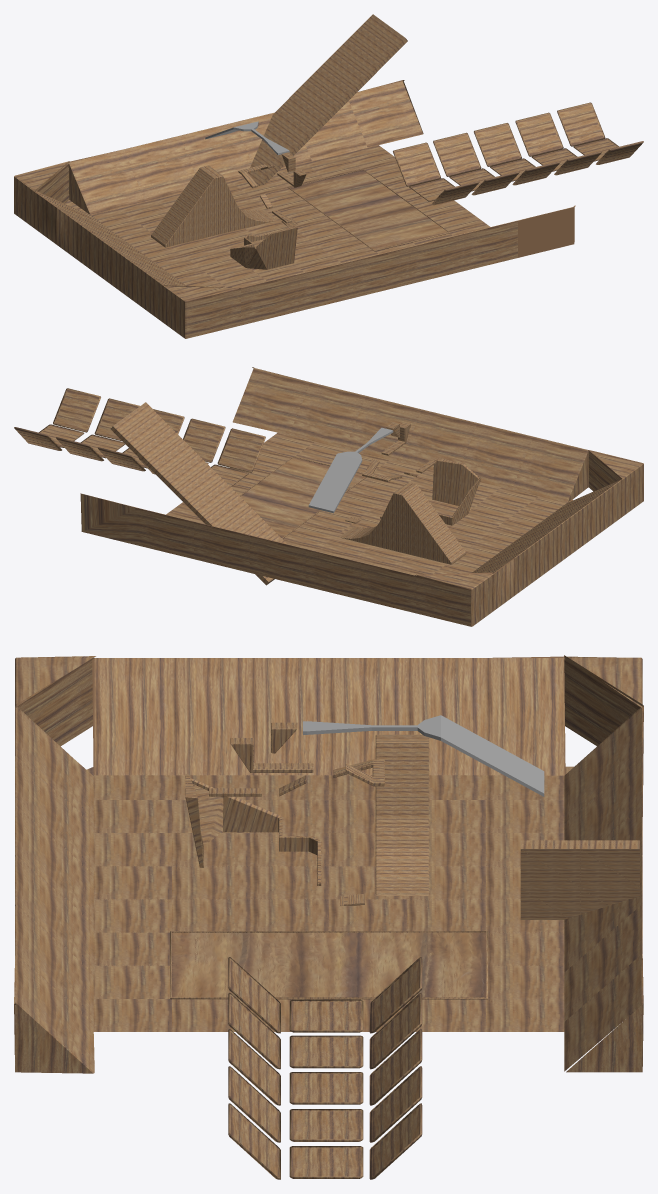
File: testRoomLedge.obj
3 views of the same model, one above another, from view 1: azimuth 30°, elevation 25°; view 2: azimuth 150°, elevation 25°; view 3: azimuth 270°, elevation 25° (orthographic). The views are drawn at different scales.
Visible parts, largest first — view 1: floor.001, floor, Cube.001, floor.003, ledge.001, housing1.001_Plane.008, ledge, housing1_Plane.001, housing1_Plane.009, housing1_Plane.005, housing1_Plane.007, housing1_Plane.003 (+3 smaller); view 2: floor.001, floor, Cube.001, ledge.001, floor.003, housing1.001_Plane.008, ledge, Cube_Cube.001, housing1.002_Plane.007_housing1.002_Plane.008, housing1.002_Plane.000, housing1.002_Plane.001_housing1.002_Plane.002, housing1.002_Plane.005_housing1.002_Plane.006 (+2 smaller); view 3: floor.001, floor, floor.003, housing1.001_Plane.008, Cube.001, ledge.001, ledge, Cube_Cube.001, housing1.001_Plane.007, housing1.001_Plane.005, housing1.001_Plane.000, housing1.001_Plane.001 (+12 smaller).
Part boxes in pixels (x1,y1,x2,y2): floor.001: (14, 80, 575, 338); floor: (65, 145, 489, 287); Cube.001: (248, 14, 407, 186); floor.003: (290, 170, 447, 250); ledge.001: (151, 165, 276, 247); housing1.001_Plane.008: (393, 102, 643, 205); ledge: (230, 152, 306, 269); housing1_Plane.001: (394, 144, 438, 184); housing1_Plane.009: (559, 104, 602, 144); housing1_Plane.005: (475, 125, 519, 164); housing1_Plane.007: (517, 114, 561, 154); housing1_Plane.003: (435, 135, 478, 174); floor.001: (80, 367, 643, 626); floor: (166, 432, 572, 575); Cube.001: (111, 402, 286, 585); ledge.001: (339, 482, 466, 564); floor.003: (240, 457, 365, 537); housing1.001_Plane.008: (14, 388, 265, 486); ledge: (362, 422, 481, 525); Cube_Cube.001: (308, 427, 393, 513); housing1.002_Plane.007_housing1.002_Plane.008: (55, 390, 98, 430); housing1.002_Plane.000: (219, 430, 263, 470); housing1.002_Plane.001_housing1.002_Plane.002: (184, 420, 223, 460); housing1.002_Plane.005_housing1.002_Plane.006: (97, 400, 137, 438); floor.001: (14, 655, 643, 1073); floor: (87, 766, 573, 1031); floor.003: (172, 932, 485, 997); housing1.001_Plane.008: (228, 957, 422, 1179); Cube.001: (520, 840, 639, 919); ledge.001: (375, 734, 429, 895); ledge: (185, 722, 384, 885); Cube_Cube.001: (303, 715, 544, 796); housing1.001_Plane.007: (293, 1148, 359, 1176); housing1.001_Plane.005: (293, 1111, 359, 1139); housing1.001_Plane.000: (293, 1002, 359, 1030); housing1.001_Plane.001: (293, 1037, 359, 1065).
Size of the model in its own units: 559 by 125 by 322.
